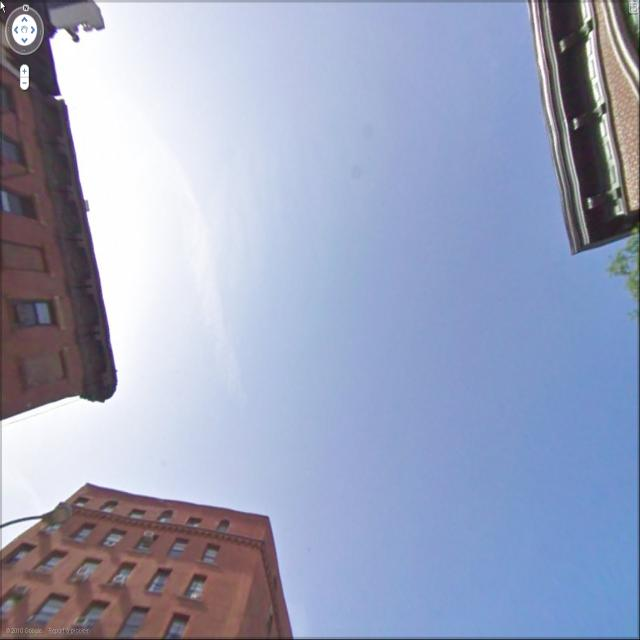b_1: (0, 456, 320, 635), (0, 29, 128, 402), (527, 4, 640, 245)
